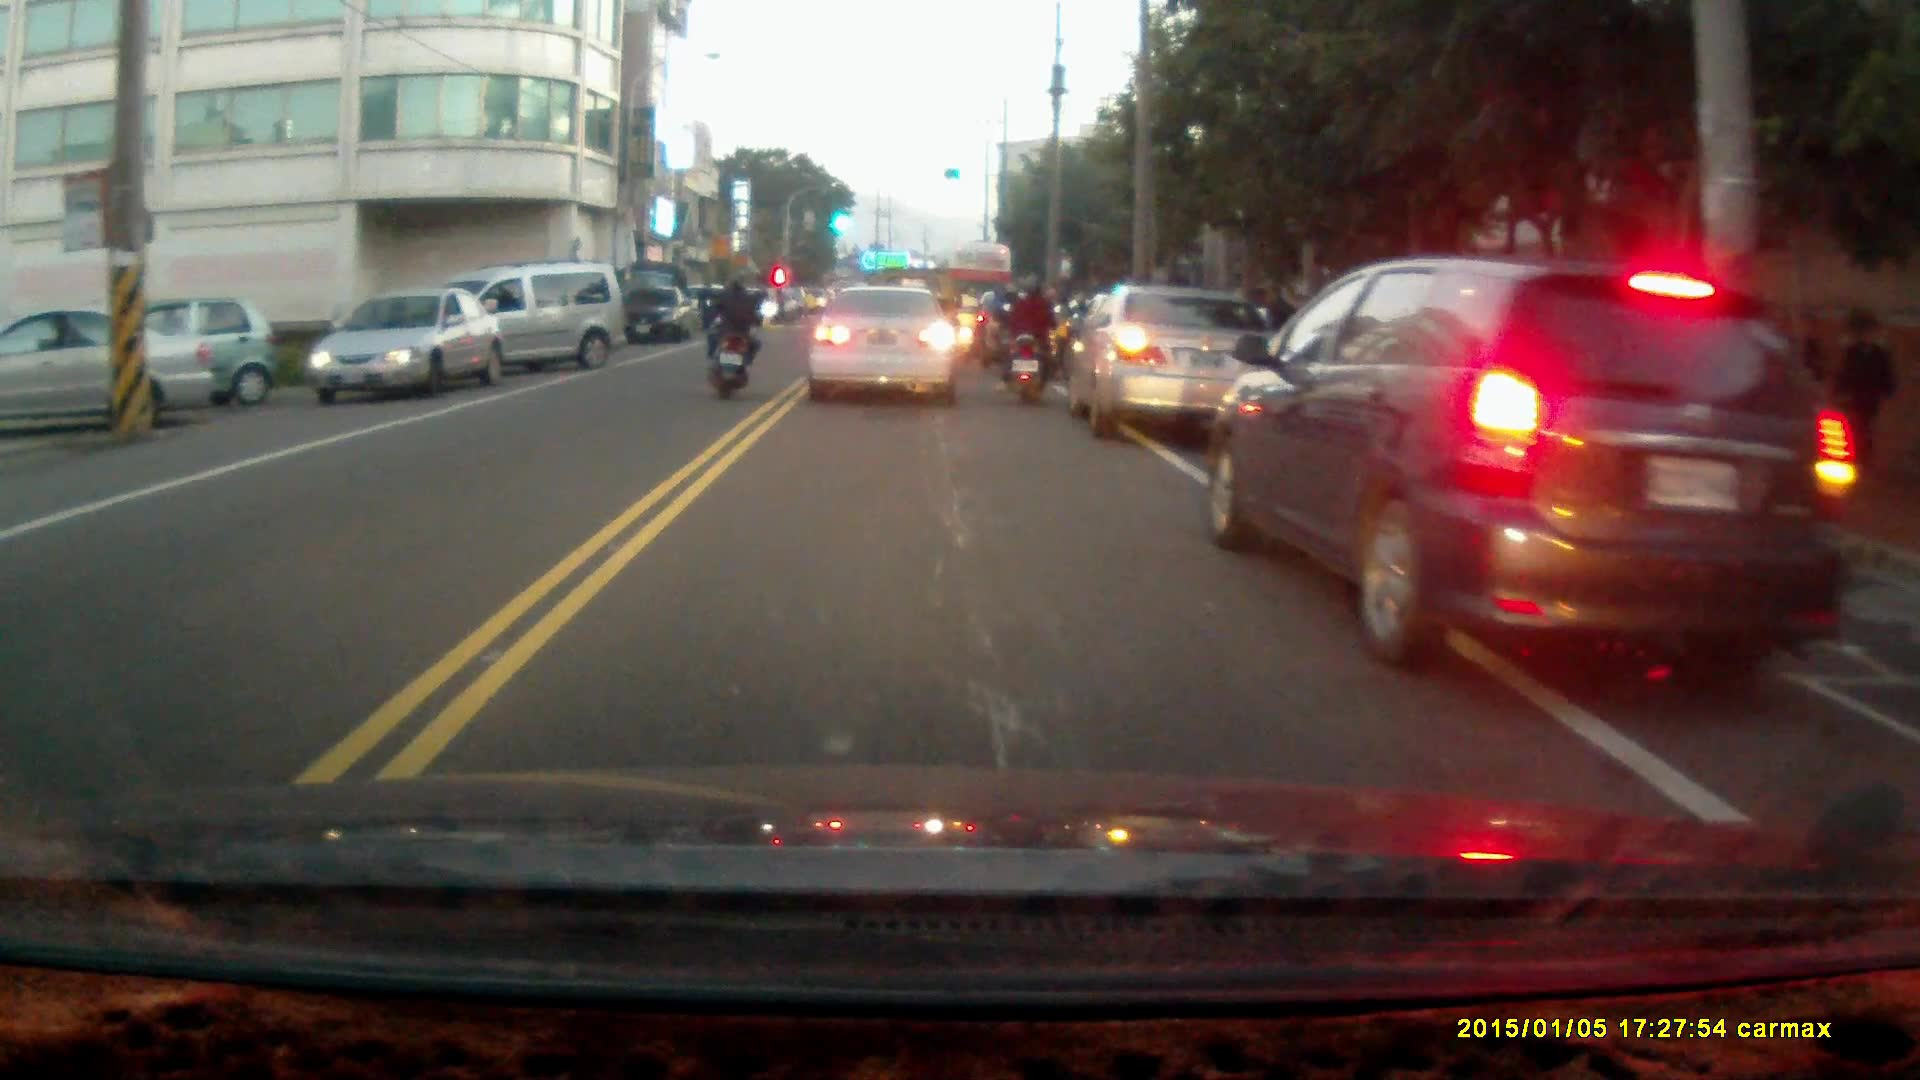pedestrian: (1839, 311, 1890, 473), (1780, 307, 1826, 445)
rider: (996, 270, 1063, 406), (702, 273, 763, 397)
vehicle: (1205, 251, 1864, 673), (1063, 281, 1285, 435), (400, 261, 625, 386), (1, 308, 220, 436), (49, 296, 276, 413), (304, 289, 504, 403), (803, 285, 964, 403), (617, 286, 688, 347)
